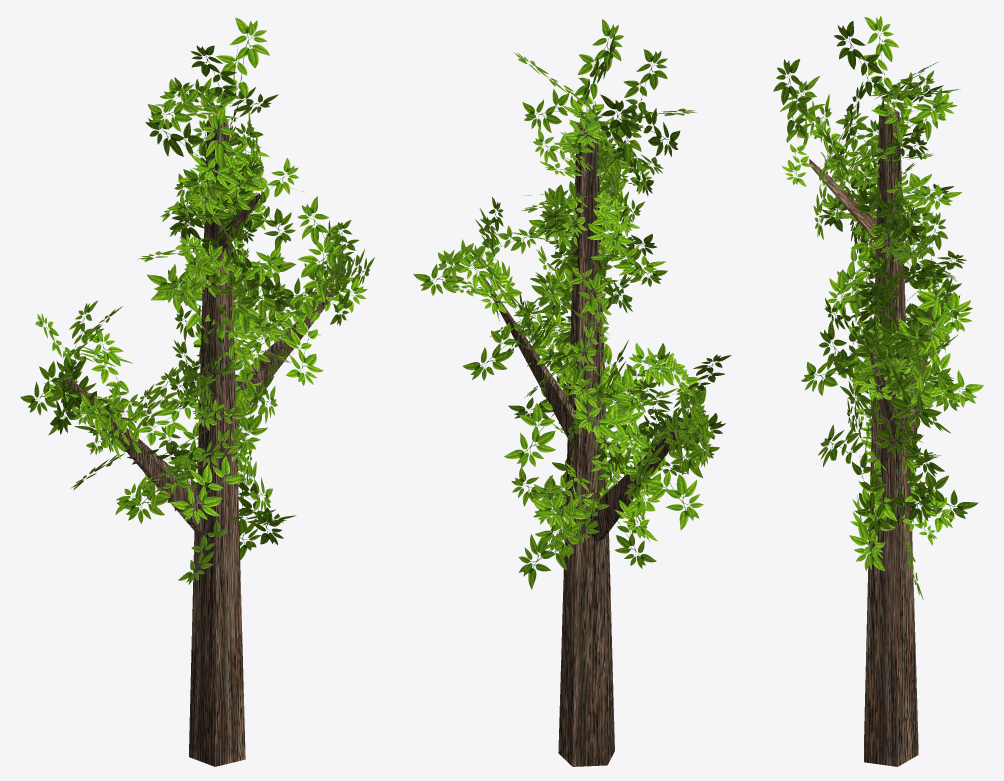
The model's file is Tree1.glb.
3 renders of one model, left to right at view 1: azimuth 30°, elevation 25°; view 2: azimuth 150°, elevation 25°; view 3: azimuth 270°, elevation 25°, orthographic.
Parts seen in each view (by area): view 1: Plane.193, Tree1; view 2: Plane.193, Tree1; view 3: Plane.193, Tree1.
Part boxes in pixels (box(x1,y1,x2,y2)): Plane.193: box(20, 17, 374, 584); Tree1: box(65, 116, 341, 766); Plane.193: box(413, 19, 731, 589); Tree1: box(484, 122, 693, 766); Plane.193: box(773, 16, 983, 600); Tree1: box(809, 108, 936, 766).
Size of the model in its own units: 3.92 by 8.09 by 2.19.
2 materials, 2 textured.
